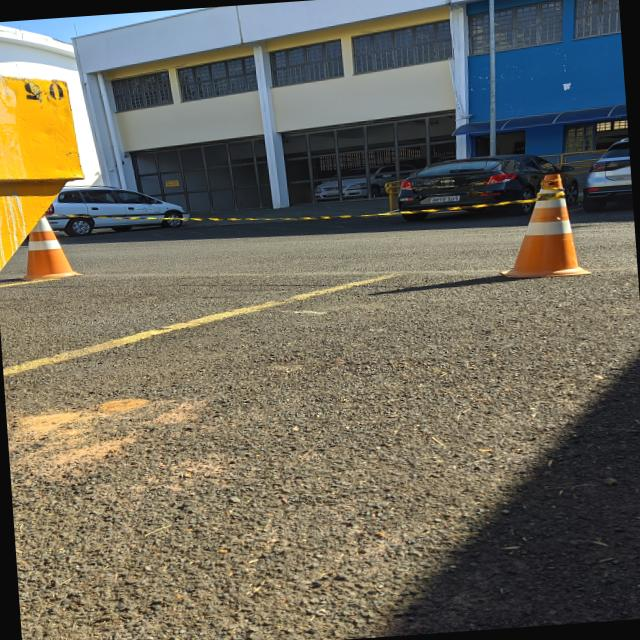cone: (489, 166, 601, 282), (13, 206, 84, 284)
